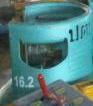cylinder: (1, 0, 93, 106)
